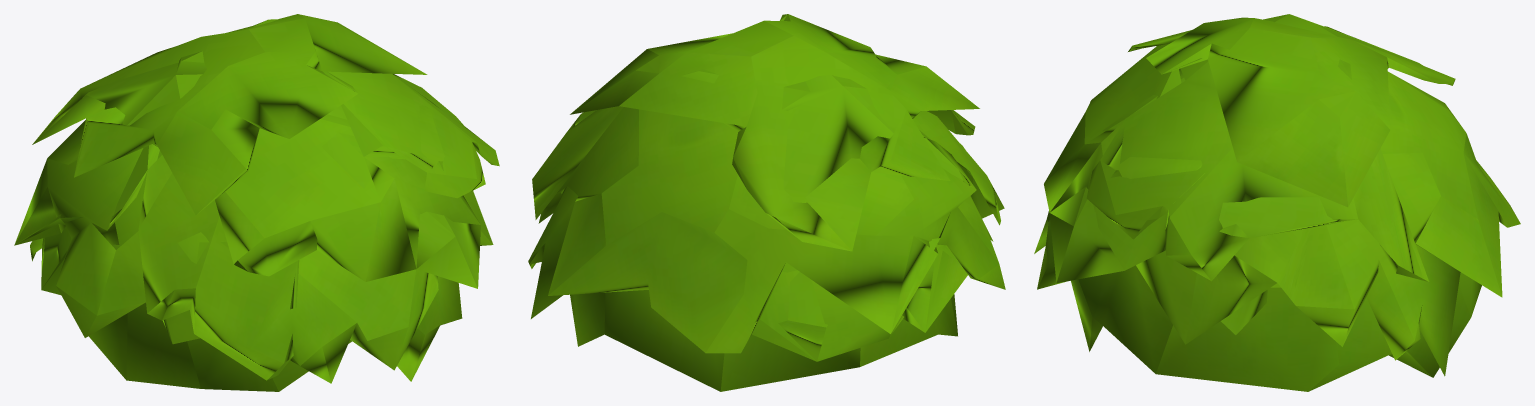
Rendered from bush.glb.
3 renders of one model, left to right at view 1: azimuth 30°, elevation 25°; view 2: azimuth 150°, elevation 25°; view 3: azimuth 270°, elevation 25°, orthographic. The views are drawn at different scales.
Size of the model in its own units: 0.9688 by 0.6445 by 0.9766.
1 material, 1 textured.
